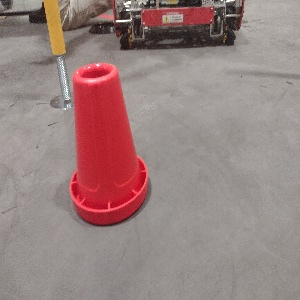Red_1: (62, 61, 152, 227)
